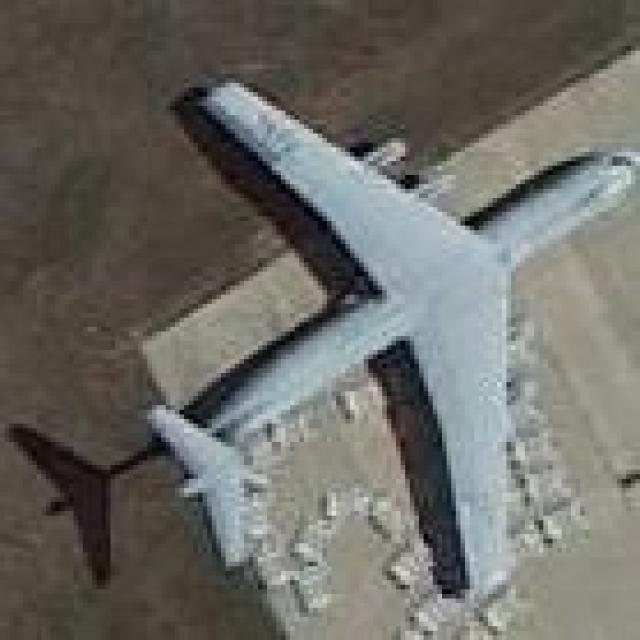C-5_TopDown: (3, 79, 640, 611)
